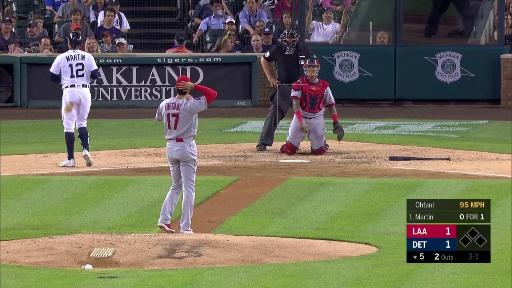pitcher: (155, 75, 218, 233)
